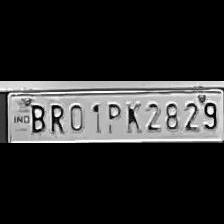0: (66, 102, 86, 132)
1: (87, 100, 103, 134)
2: (141, 99, 161, 133), (180, 98, 200, 132)
8: (160, 99, 180, 131)
9: (198, 96, 218, 130)
B: (27, 101, 46, 133)
K: (122, 100, 142, 134)
P: (102, 100, 122, 134)
R: (46, 100, 66, 134)
